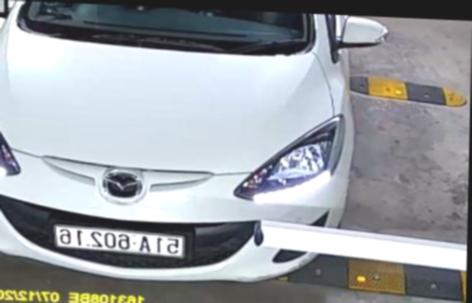License_Plate: (47, 219, 191, 264)
